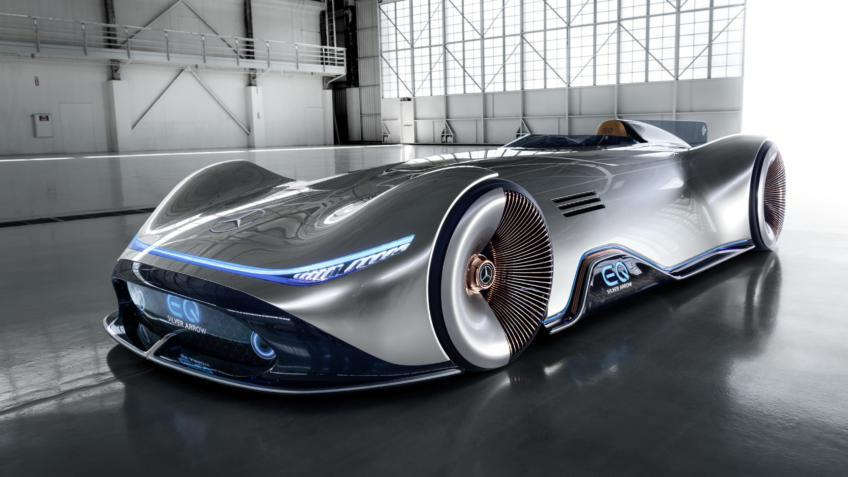car: (78, 105, 831, 404)
